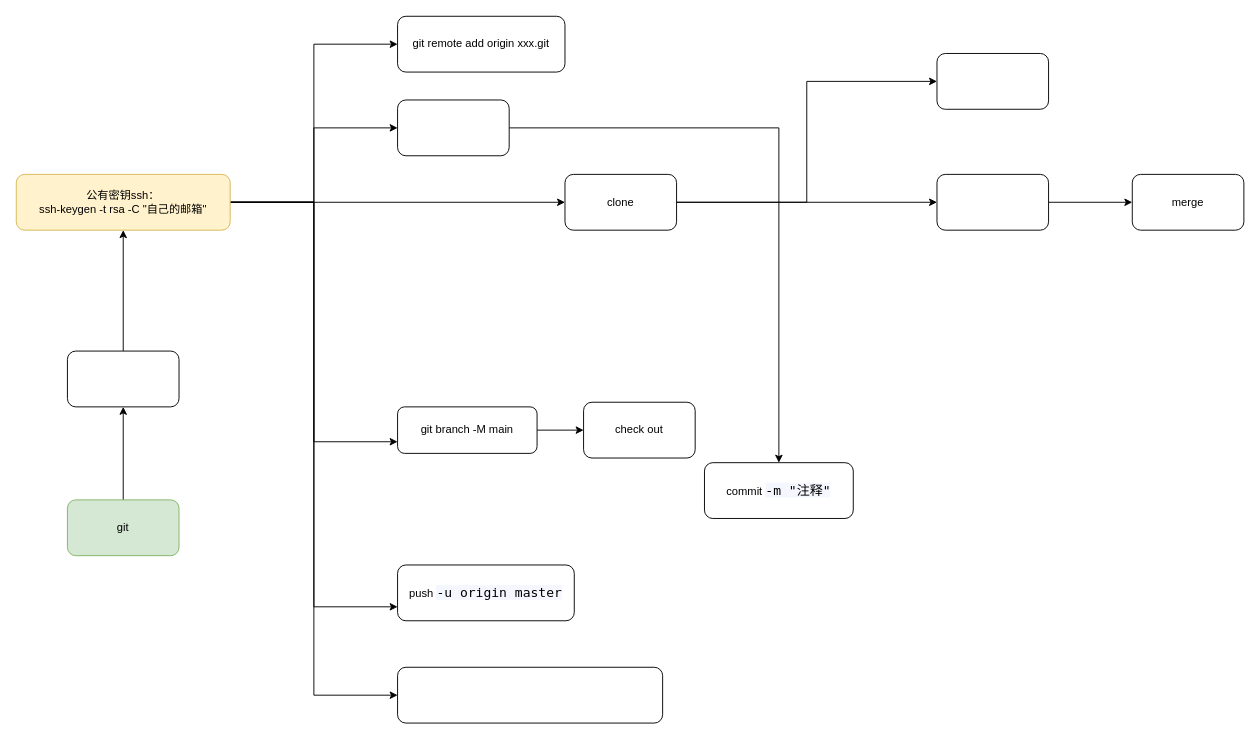
Image size: 1260x739. Some labels were removed from this diagram. The centre of each missing label's shape, as x and y in pixels:
add/add .: the point at 453,127
fetch: the point at 992,201
init: the point at 122,378
pull: the point at 992,81
reset [-- soft | -- mixed | -- hard ] [ HEAD~] 撤回提交到head个版本: the point at 530,694
